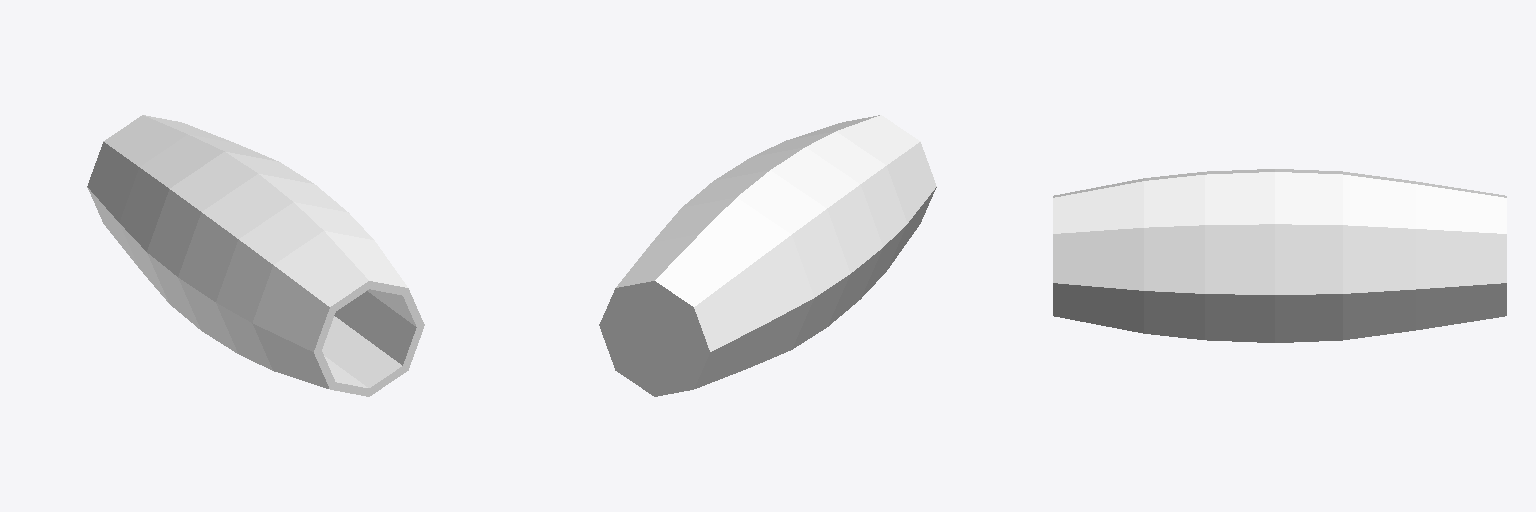
3 renders of one model, left to right at view 1: azimuth 30°, elevation 25°; view 2: azimuth 150°, elevation 25°; view 3: azimuth 270°, elevation 25°, orthographic.
Parts seen in each view (by area): view 1: Vase_Low; view 2: Vase_Low; view 3: Vase_Low.
Boxes of the visible parts, <box> form: Vase_Low: <box>87,115,424,396</box>; Vase_Low: <box>599,115,936,396</box>; Vase_Low: <box>1053,169,1506,342</box>.
Bounding box in the file's own units: 14.35 × 14.35 × 35.04.